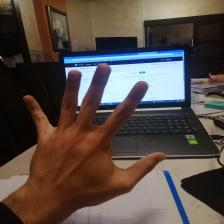five: (21, 61, 168, 215)
